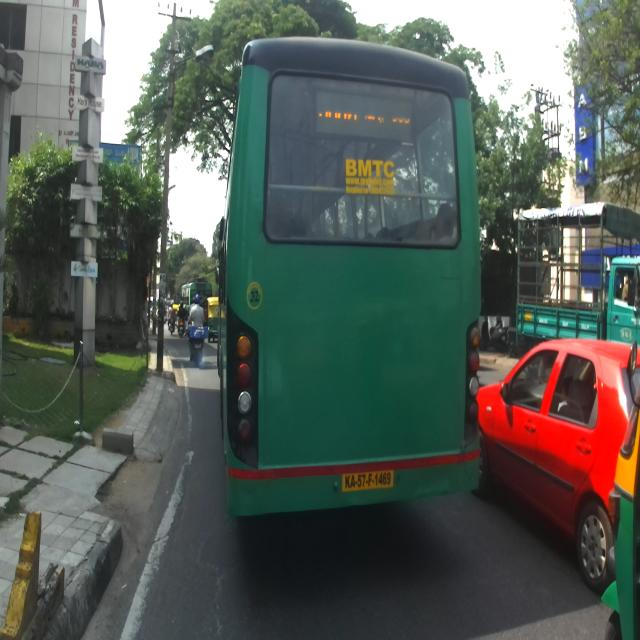bus ahead at: (217, 44, 484, 503)
car ahead at: (484, 336, 612, 573)
electric pole ahead at: (154, 0, 180, 385)
